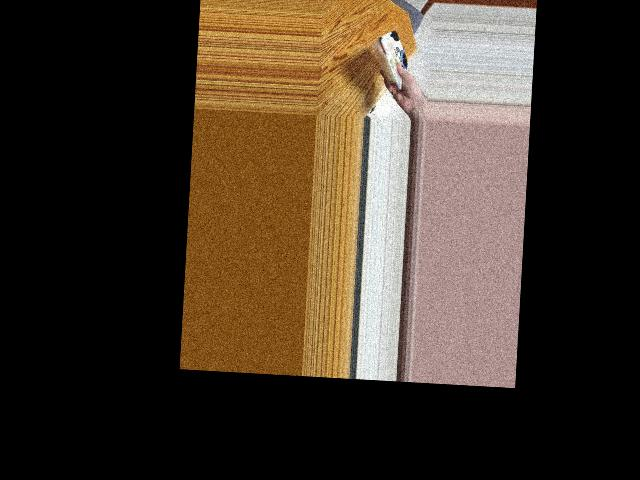cheese: (371, 32, 418, 81)
